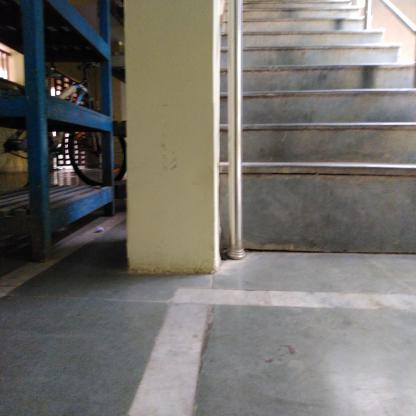stairs: (251, 3, 362, 266)
